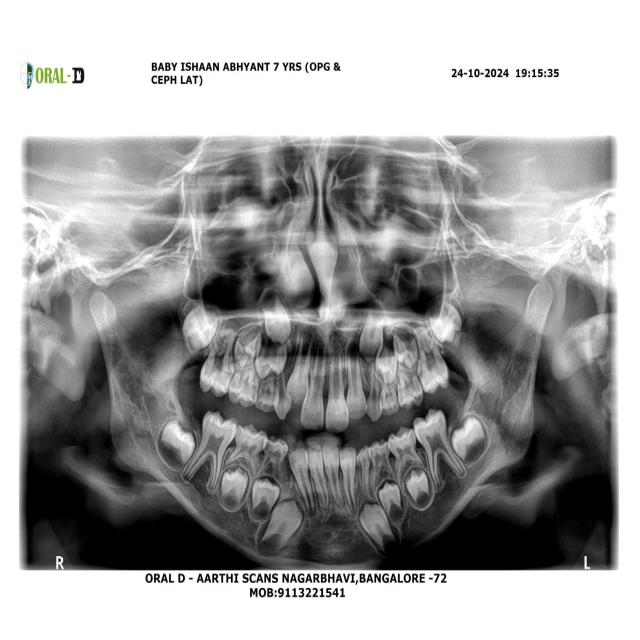Premolars: (369, 439, 399, 503)
